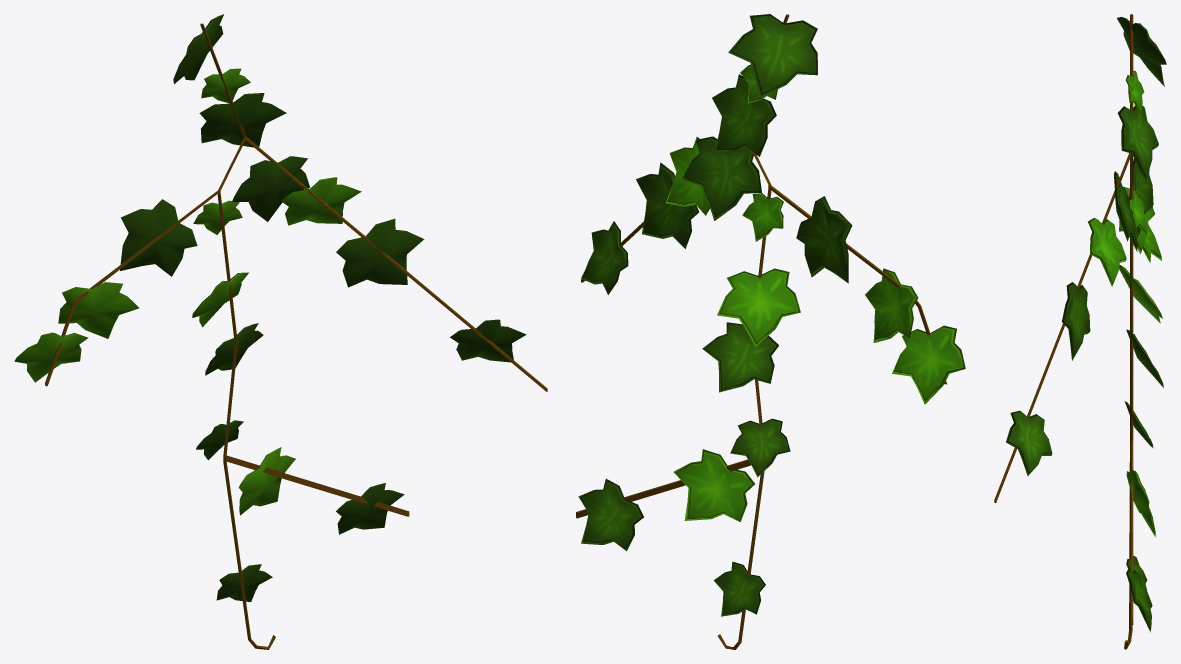
The model's file is Model_Bg_lvy2.fbx.
3 views of the same model, side by side, from view 1: azimuth 30°, elevation 25°; view 2: azimuth 150°, elevation 25°; view 3: azimuth 270°, elevation 25° (orthographic). The views are drawn at different scales.
Visible parts, largest first — view 1: pCylinder1, pasted__pCube7, pasted__pCube6, pasted__pCube9, pasted__pCube18, pasted__pCube19, pasted__pCube10, pasted__pCube14, pasted__pCube16, pasted__pCube11, pasted__pCube13, pasted__pCube5 (+6 smaller); view 2: pasted__pCube5, pasted__pCube17, pasted__pCube11, pasted__pCube18, pasted__pCube16, pasted__pCube9, pasted__pCube12, pasted__pCube7, pasted__pCube13, pCylinder1, pasted__pCube6, pasted__pCube19 (+5 smaller); view 3: pCylinder1, pasted__pCube14, pasted__pCube9, pasted__pCube10, pasted__pCube6, pasted__pCube5, pasted__pCube18, pasted__pCube13, pasted__pCube11, pasted__pCube7, pasted__pCube17, pasted__pCube12 (+5 smaller).
Boxes of the visible parts, bbox=[...] form: pCylinder1: bbox=[45, 23, 547, 649]; pasted__pCube7: bbox=[120, 199, 197, 276]; pasted__pCube6: bbox=[336, 218, 424, 287]; pasted__pCube9: bbox=[199, 93, 286, 147]; pasted__pCube18: bbox=[232, 156, 309, 221]; pasted__pCube19: bbox=[58, 282, 139, 338]; pasted__pCube10: bbox=[281, 177, 361, 225]; pasted__pCube14: bbox=[450, 319, 526, 362]; pasted__pCube16: bbox=[14, 332, 88, 382]; pasted__pCube11: bbox=[239, 447, 295, 515]; pasted__pCube13: bbox=[336, 483, 404, 534]; pasted__pCube5: bbox=[173, 14, 223, 83]; pasted__pCube5: bbox=[728, 14, 817, 98]; pasted__pCube17: bbox=[717, 268, 800, 347]; pasted__pCube11: bbox=[673, 449, 754, 522]; pasted__pCube18: bbox=[681, 136, 761, 220]; pasted__pCube16: bbox=[892, 325, 965, 404]; pasted__pCube9: bbox=[712, 74, 776, 156]; pasted__pCube12: bbox=[702, 322, 778, 392]; pasted__pCube7: bbox=[796, 196, 852, 283]; pasted__pCube13: bbox=[578, 478, 643, 551]; pCylinder1: bbox=[576, 14, 946, 649]; pasted__pCube6: bbox=[636, 162, 698, 248]; pasted__pCube19: bbox=[865, 268, 918, 342]; pCylinder1: bbox=[994, 14, 1133, 649]; pasted__pCube14: bbox=[1006, 410, 1052, 475]; pasted__pCube9: bbox=[1117, 106, 1158, 181]; pasted__pCube10: bbox=[1087, 218, 1126, 286]; pasted__pCube6: bbox=[1062, 282, 1090, 360]; pasted__pCube5: bbox=[1117, 17, 1166, 86]; pasted__pCube18: bbox=[1114, 171, 1137, 251]; pasted__pCube13: bbox=[1126, 569, 1152, 632]; pasted__pCube11: bbox=[1126, 469, 1155, 536]; pasted__pCube7: bbox=[1129, 158, 1153, 237]; pasted__pCube17: bbox=[1119, 265, 1162, 323]; pasted__pCube12: bbox=[1126, 329, 1163, 387].
Size of the model in its own units: 141 by 189 by 48.74.
